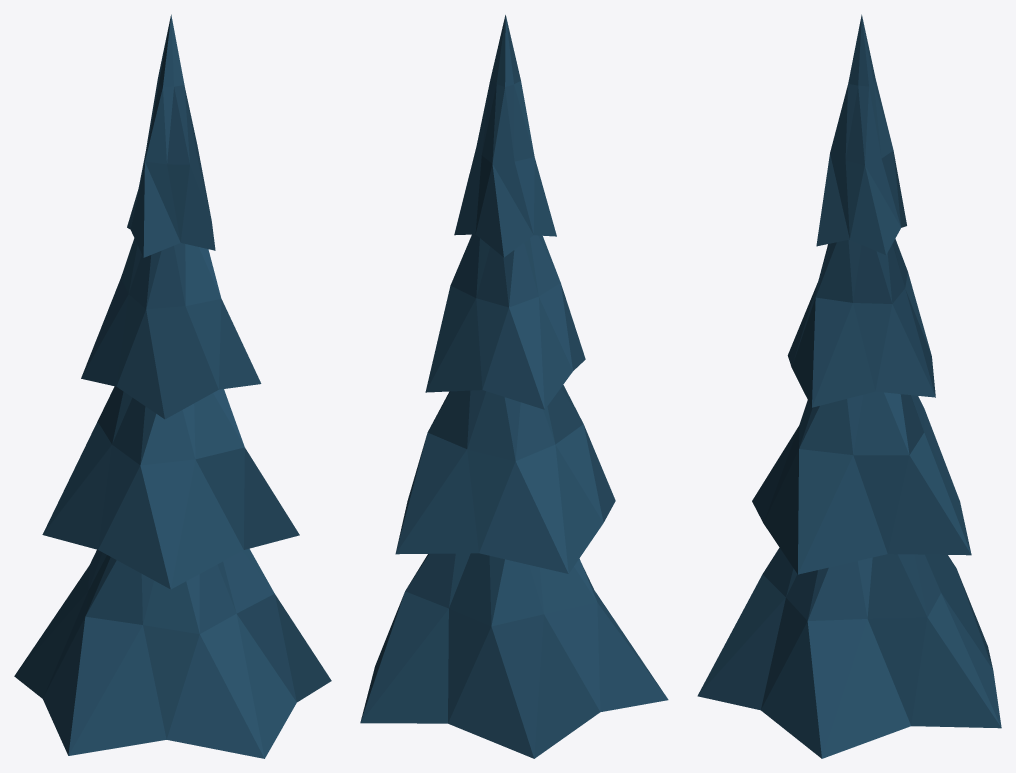
The model's file is Leaves_C.glb.
The picture shows the model from 3 angles, left to right: view 1: azimuth 30°, elevation 25°; view 2: azimuth 150°, elevation 25°; view 3: azimuth 270°, elevation 25°; orthographic projection.
Parts seen in each view (by area): view 1: Leaves; view 2: Leaves; view 3: Leaves.
Part boxes in pixels (x1,y1,x2,y2): Leaves: [14, 14, 331, 758]; Leaves: [360, 15, 668, 758]; Leaves: [697, 14, 1001, 758].
Bounding box in the file's own units: 15.18 × 36.26 × 14.77.
